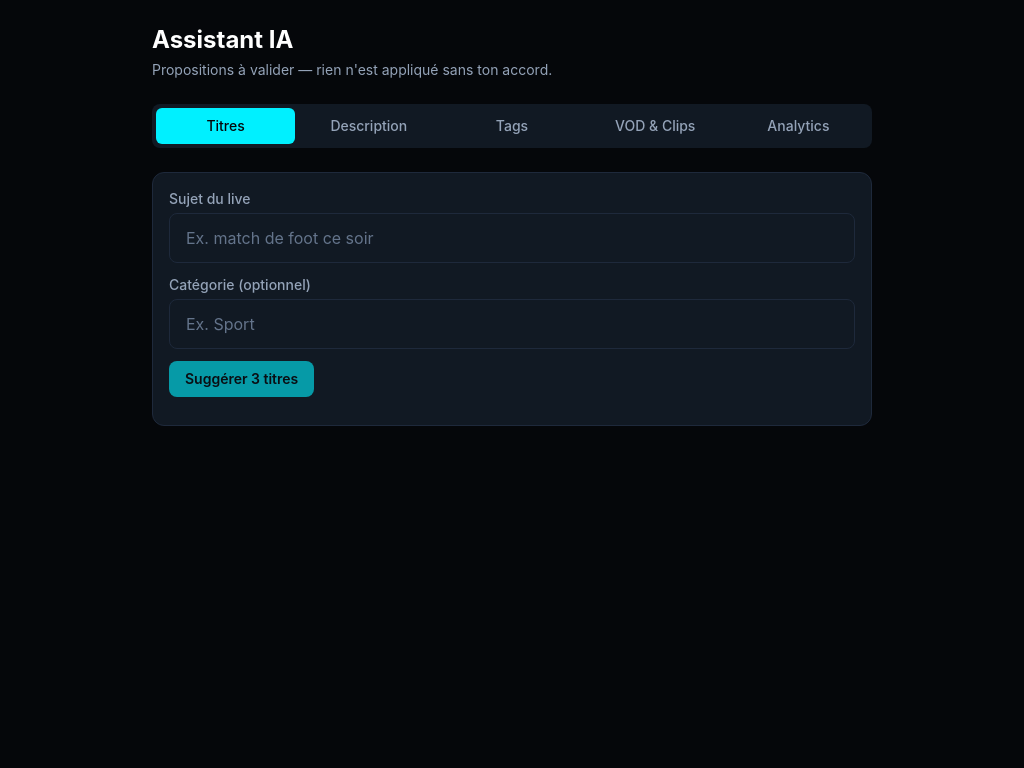
Test case: CreatorAI › erreur quota → toast sans crash
Step 1. Type "gaming" into the field labelled "Sujet du live" → (512, 238), box [169,213,855,263]
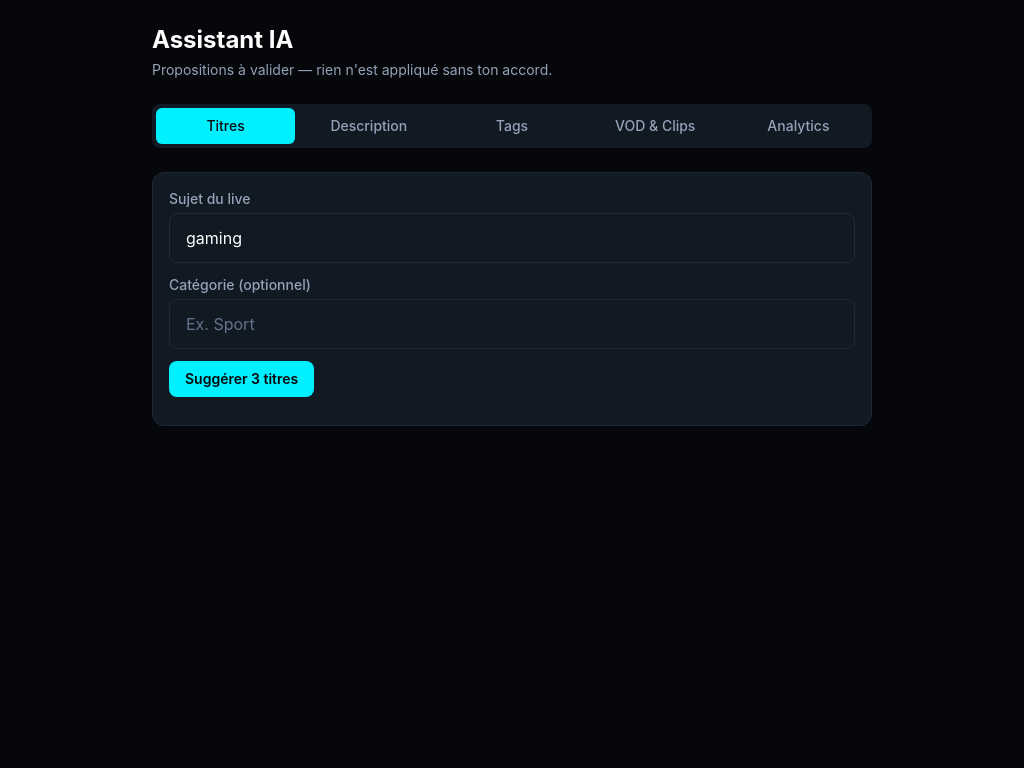
Step 2. Click the button "Suggérer 3 titres" → (242, 379), box [169,361,314,397]
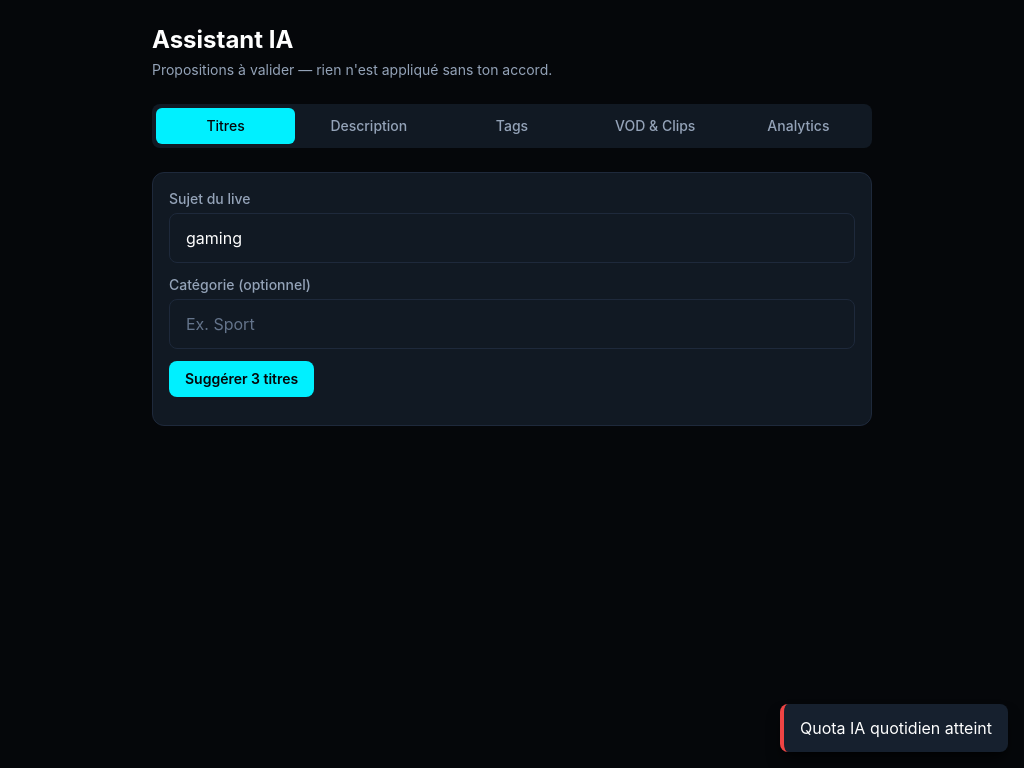
Check: the text "Quota IA quotidien atteint" is shown, box [780,704,1008,752]
